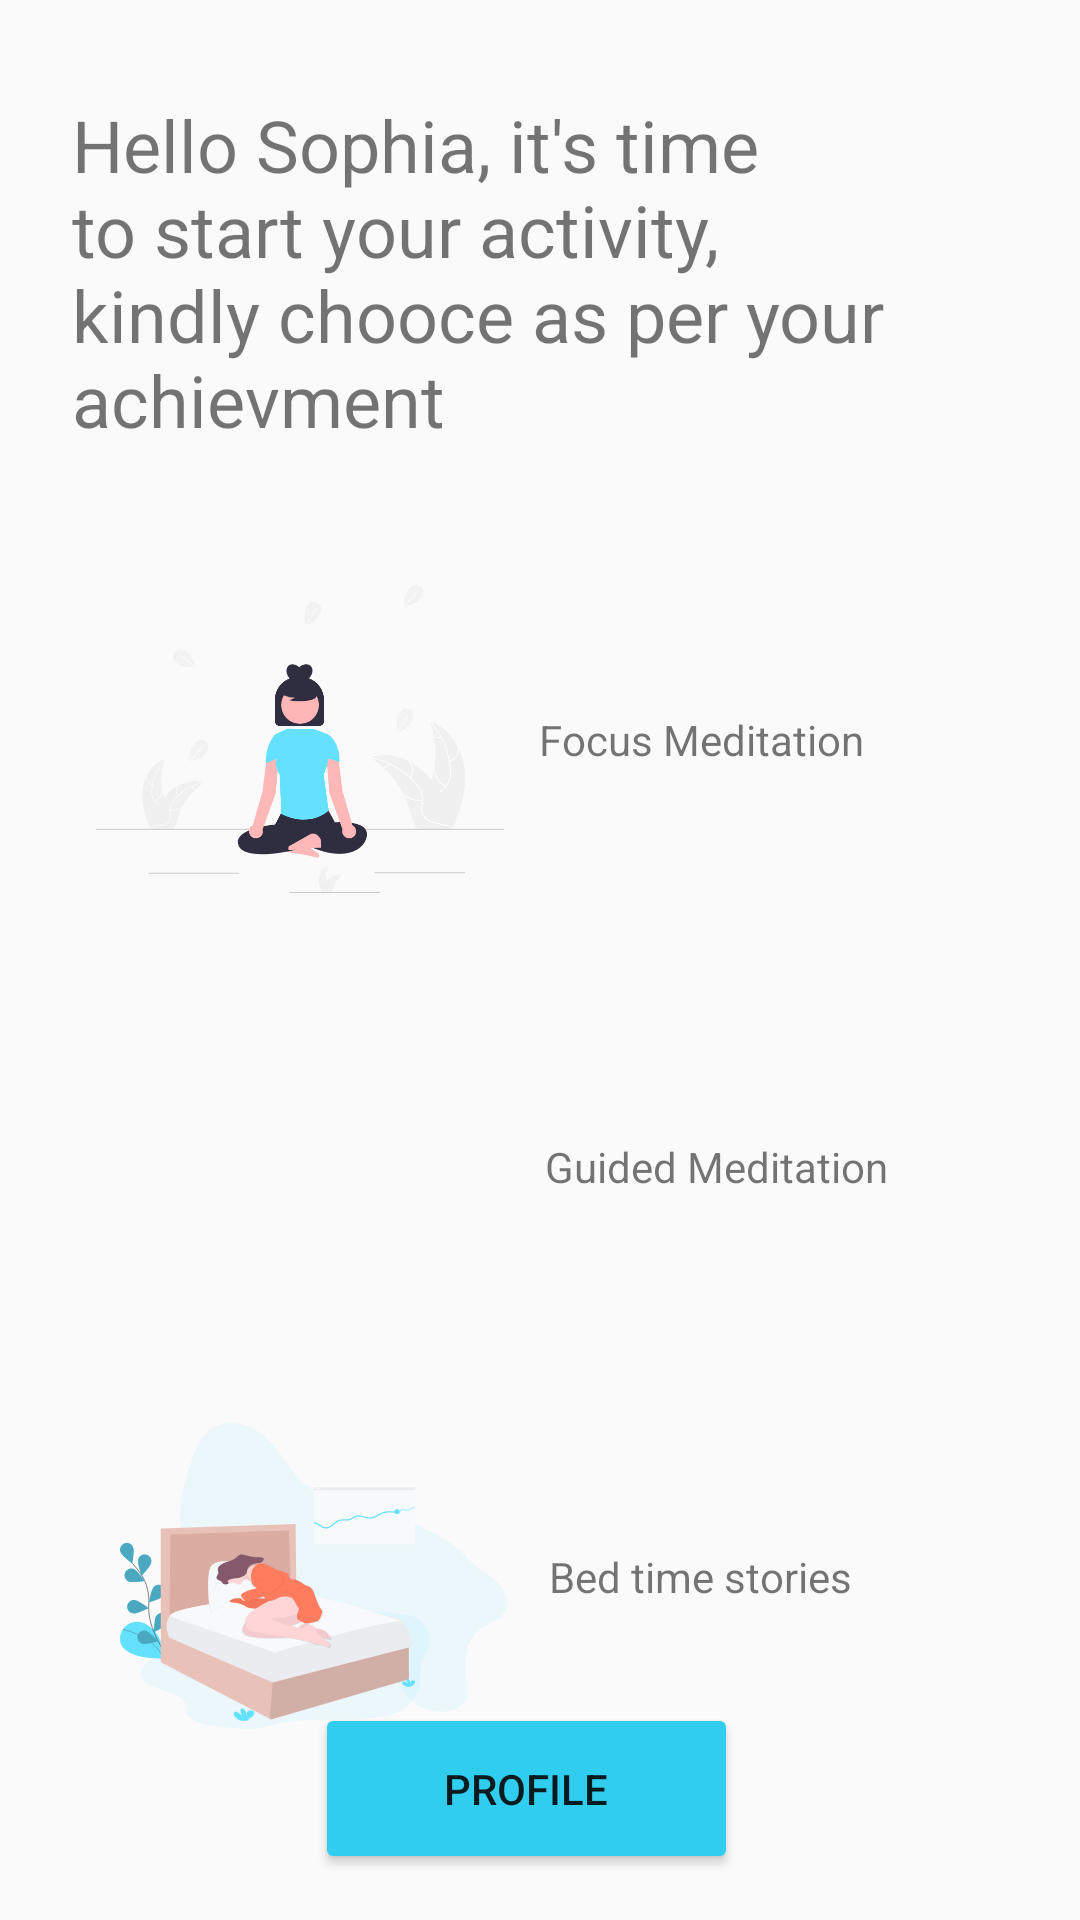

Point at icon controls on the screen. Image size 1080w x 1920h, points as (x,y).
sleep: (275,1614)
